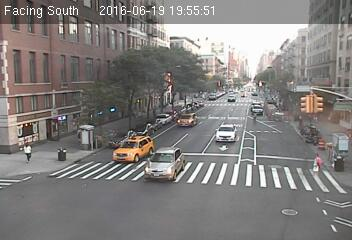neg: (224, 66, 244, 93), (90, 127, 108, 151), (143, 124, 161, 148), (322, 76, 339, 98), (303, 99, 319, 120), (208, 115, 222, 134)
pos: (303, 151, 323, 178), (17, 138, 36, 162), (249, 109, 261, 125)
